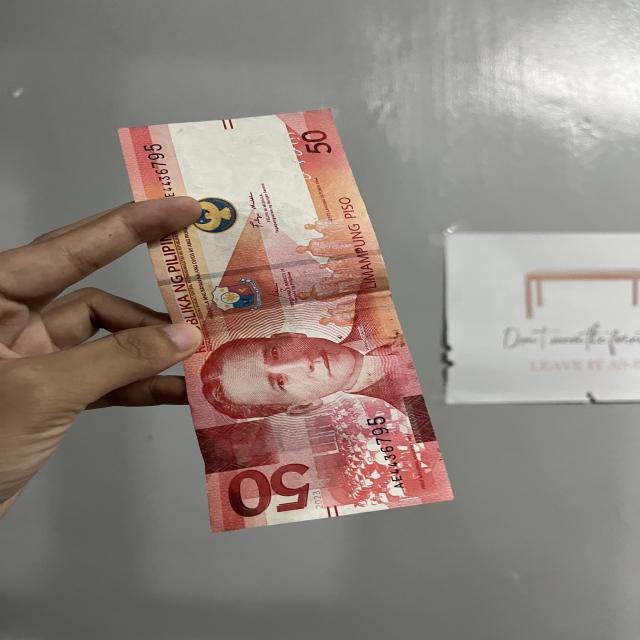concealed_value: (197, 419, 286, 472)
value: (212, 455, 325, 526)
